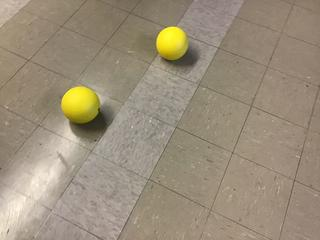power_cell: (59, 85, 104, 122), (156, 25, 189, 64)
